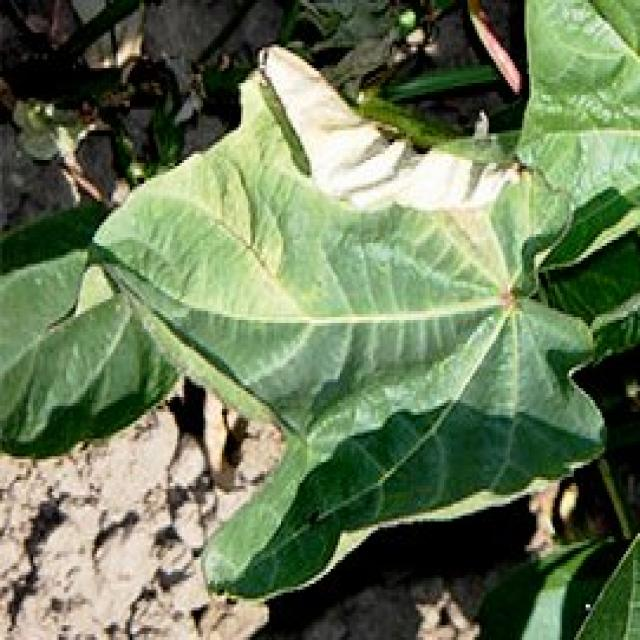Fusarium Wilt: (17, 12, 623, 640)
